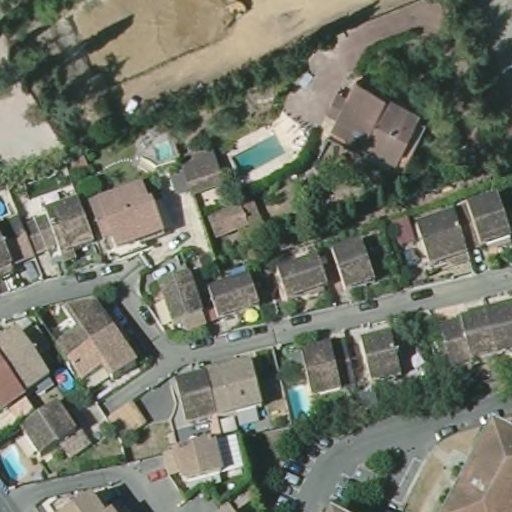pool: (227, 139, 287, 173), (287, 384, 318, 423), (1, 440, 28, 483), (152, 142, 180, 165), (58, 365, 77, 395), (1, 196, 13, 223)
